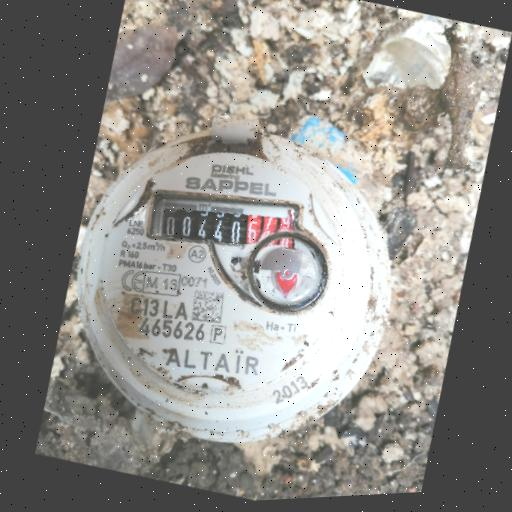0: (219, 209, 251, 248), (266, 204, 300, 239), (154, 204, 185, 242), (173, 205, 202, 242)
4: (204, 208, 234, 246), (188, 207, 217, 243)
6: (237, 212, 267, 249)
7: (253, 213, 279, 247)
border_water_meter_number: (138, 167, 310, 277)
